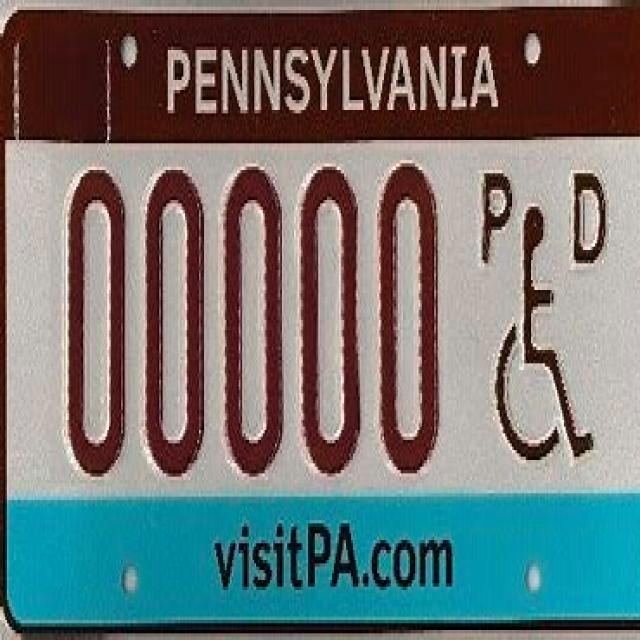ISA: (494, 202, 596, 467)
